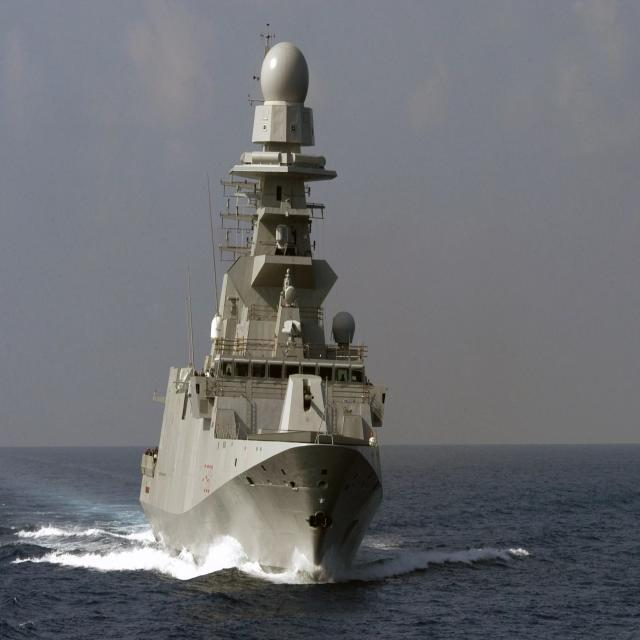Fragata: (115, 12, 372, 593)
